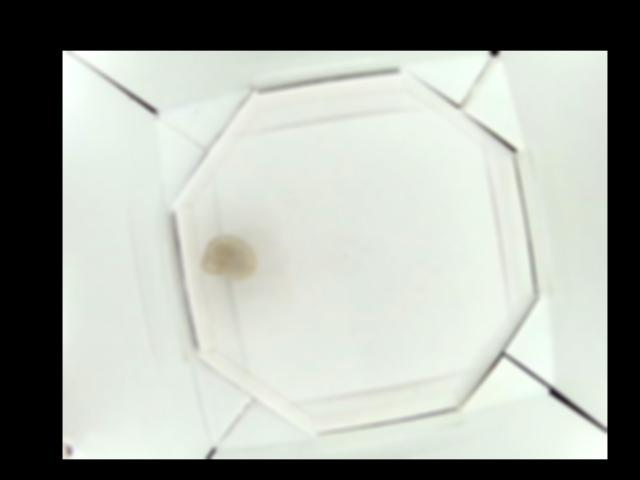Pebble: (201, 235, 255, 277)
